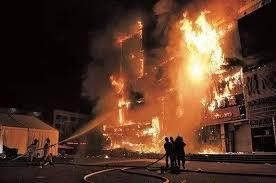fire: (176, 9, 246, 111), (197, 142, 222, 157)
